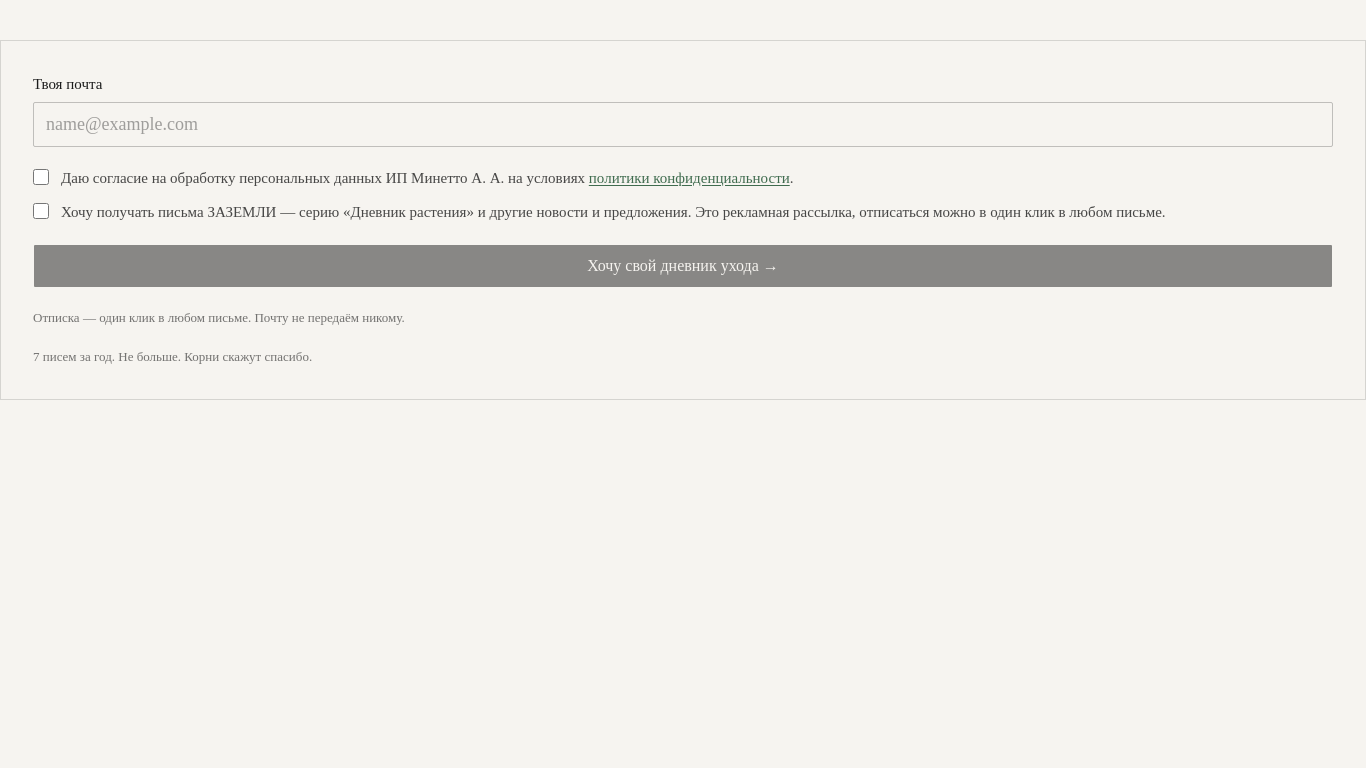
Test: SignupForm — ссылка CB1 → /privacy и попап политики (task 2.4) › клик по ссылке CB1 открывает попап-резюме политики
Click the link "политики конфиденциальности" at (689,178), box [589,170,790,186]
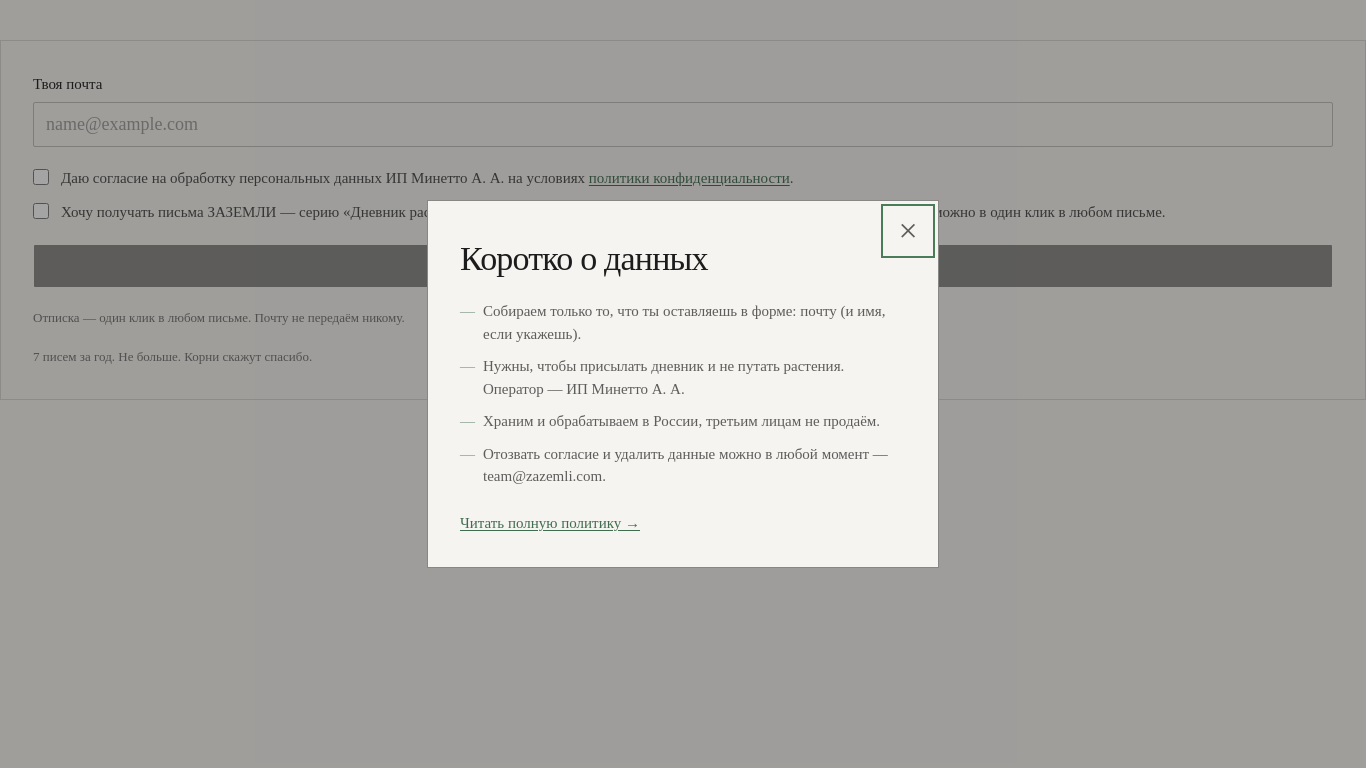
Now the dialog "Коротко о данных" is shown
